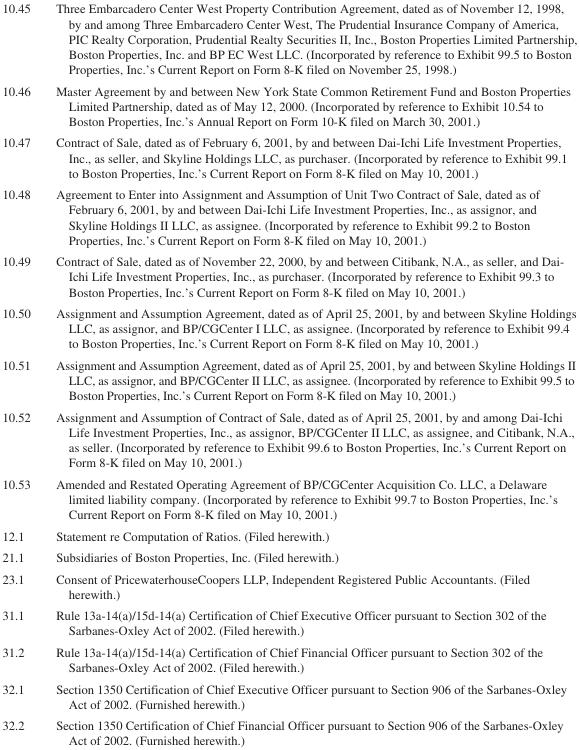table: (1, 1, 576, 747)
table column: (42, 1, 576, 747), (1, 1, 42, 747)
table row: (1, 1, 576, 79), (1, 183, 576, 250), (1, 405, 576, 472), (1, 79, 576, 131), (1, 131, 576, 183), (1, 301, 576, 353), (1, 353, 576, 405), (1, 472, 576, 524), (1, 250, 576, 301), (1, 567, 576, 604), (1, 640, 576, 677), (1, 677, 576, 714), (1, 604, 576, 640), (1, 714, 576, 747), (1, 545, 576, 567), (1, 524, 576, 545)
